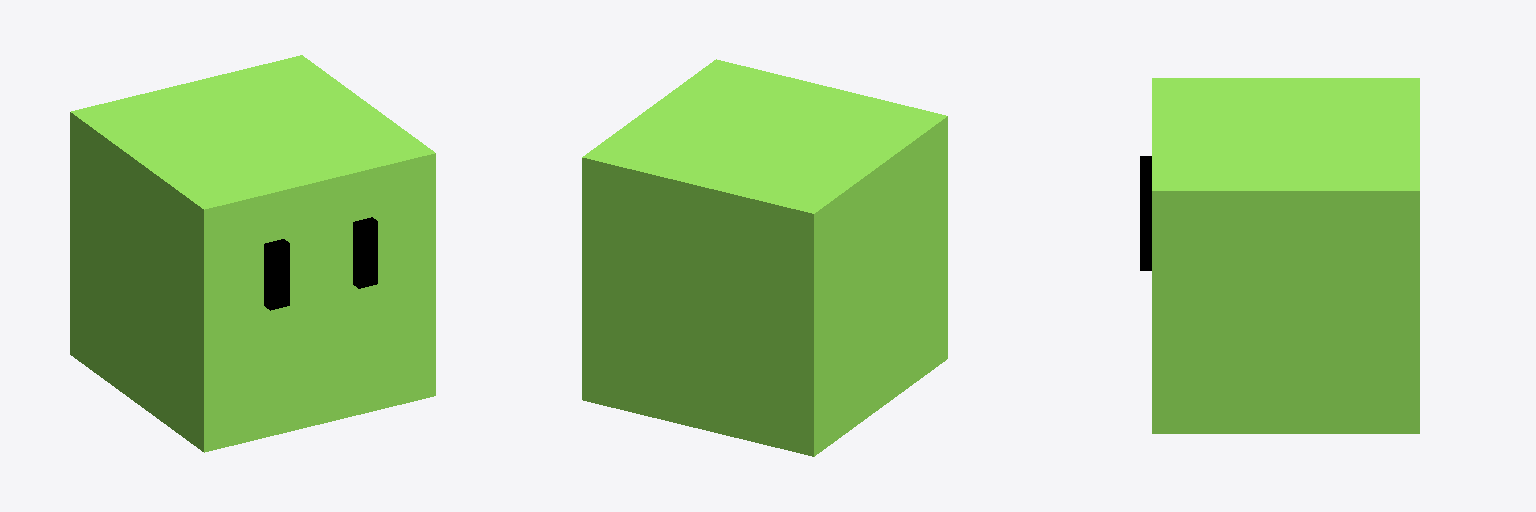
The picture shows the model from 3 angles: view 1: azimuth 30°, elevation 25°; view 2: azimuth 150°, elevation 25°; view 3: azimuth 270°, elevation 25°; orthographic projection.
Visible parts, largest first — view 1: 立方体.002; view 2: 立方体.002; view 3: 立方体.002.
Boxes of the visible parts, x1=… form: 立方体.002: x1=70, y1=55, x2=435, y2=452; 立方体.002: x1=582, y1=59, x2=947, y2=456; 立方体.002: x1=1140, y1=78, x2=1419, y2=433.
Size of the model in its own units: 2 by 2 by 2.09.
Materials: 1 (1 with a texture image).